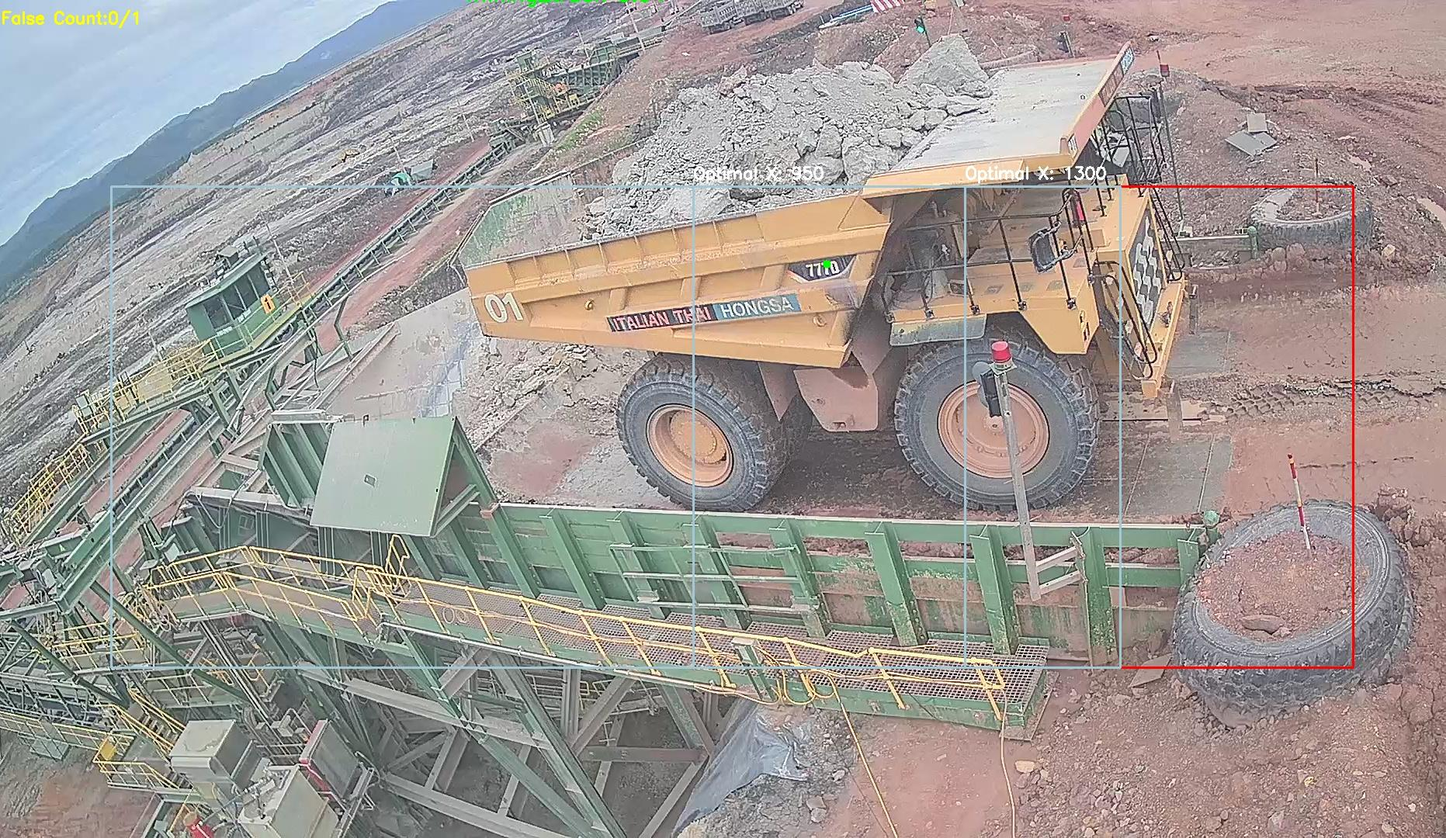company: (595, 290, 815, 335)
full_load: (651, 50, 956, 226)
mining_truck: (448, 28, 1203, 503)
tail_number: (476, 285, 534, 334)
truck_size: (781, 254, 864, 285)
